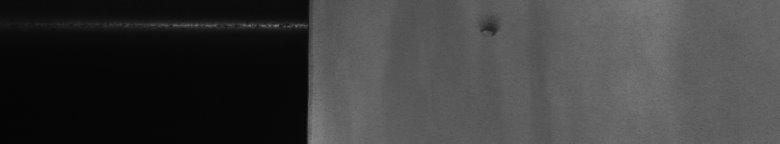fi: (476, 21, 504, 40)
